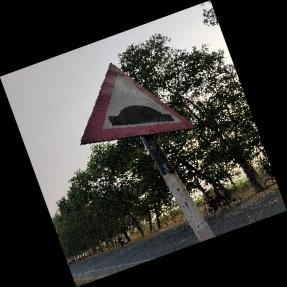Speed-breaker: (80, 63, 194, 144)
